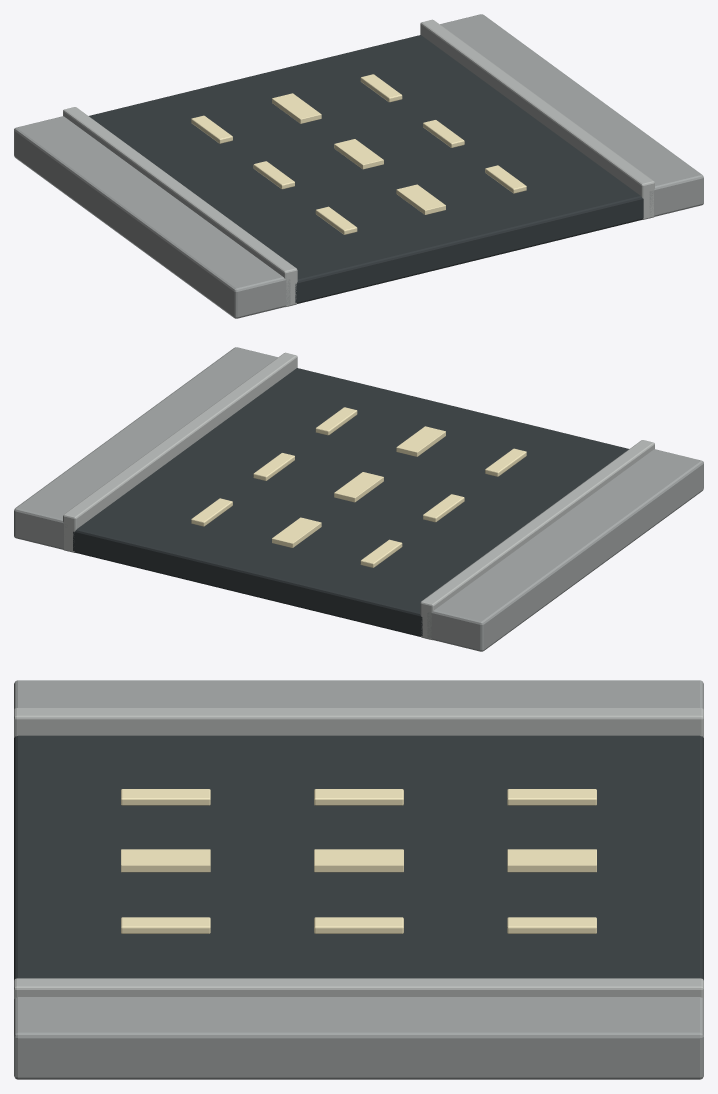
The model's file is road_4_lane_straight.glb.
3 views of the same model, one above another, from view 1: azimuth 30°, elevation 25°; view 2: azimuth 150°, elevation 25°; view 3: azimuth 270°, elevation 25° (orthographic). The views are drawn at different scales.
Visible parts, largest first — view 1: asphalt_surface, sidewalk, sidewalk.001, curb.001, curb, center_double_line, center_double_line.001, center_double_line.002, lane_dash.001, lane_dash.002, lane_dash.003, lane_dash.004 (+2 smaller); view 2: asphalt_surface, sidewalk, sidewalk.001, curb.001, curb, center_double_line.001, center_double_line.002, center_double_line, lane_dash.001, lane_dash, lane_dash.005, lane_dash.004 (+2 smaller); view 3: asphalt_surface, sidewalk.001, curb, sidewalk, curb.001, center_double_line.001, center_double_line, center_double_line.002, lane_dash.001, lane_dash, lane_dash.002, lane_dash.003 (+2 smaller).
Boxes of the visible parts, left/top/right/bottom form: asphalt_surface: left=89, top=35, right=643, bottom=303; sidewalk: left=14, top=116, right=290, bottom=318; sidewalk.001: left=440, top=14, right=703, bottom=216; curb.001: left=420, top=19, right=654, bottom=219; curb: left=63, top=107, right=297, bottom=307; center_double_line: left=272, top=93, right=321, bottom=123; center_double_line.001: left=334, top=139, right=383, bottom=169; center_double_line.002: left=396, top=184, right=445, bottom=214; lane_dash.001: left=253, top=161, right=294, bottom=189; lane_dash.002: left=315, top=206, right=357, bottom=234; lane_dash.003: left=360, top=74, right=402, bottom=102; lane_dash.004: left=423, top=120, right=464, bottom=147; asphalt_surface: left=73, top=368, right=628, bottom=636; sidewalk: left=427, top=449, right=703, bottom=651; sidewalk.001: left=14, top=347, right=277, bottom=549; curb.001: left=63, top=352, right=297, bottom=552; curb: left=420, top=440, right=654, bottom=640; center_double_line.001: left=334, top=472, right=383, bottom=502; center_double_line.002: left=396, top=426, right=445, bottom=456; center_double_line: left=272, top=517, right=321, bottom=547; lane_dash.001: left=423, top=494, right=464, bottom=522; lane_dash: left=360, top=539, right=402, bottom=567; lane_dash.005: left=315, top=407, right=357, bottom=435; lane_dash.004: left=253, top=453, right=294, bottom=480; asphalt_surface: left=14, top=735, right=703, bottom=980; sidewalk.001: left=14, top=997, right=703, bottom=1079; curb: left=14, top=708, right=703, bottom=737; sidewalk: left=14, top=680, right=703, bottom=709; curb.001: left=14, top=978, right=703, bottom=998; center_double_line.001: left=314, top=849, right=403, bottom=872; center_double_line: left=507, top=849, right=596, bottom=872; center_double_line.002: left=121, top=849, right=210, bottom=872; lane_dash.001: left=314, top=789, right=403, bottom=805; lane_dash: left=507, top=789, right=596, bottom=805; lane_dash.002: left=121, top=789, right=210, bottom=805; lane_dash.003: left=507, top=917, right=596, bottom=933.
Size of the model in its own units: 1.22 by 0.09 by 1.
